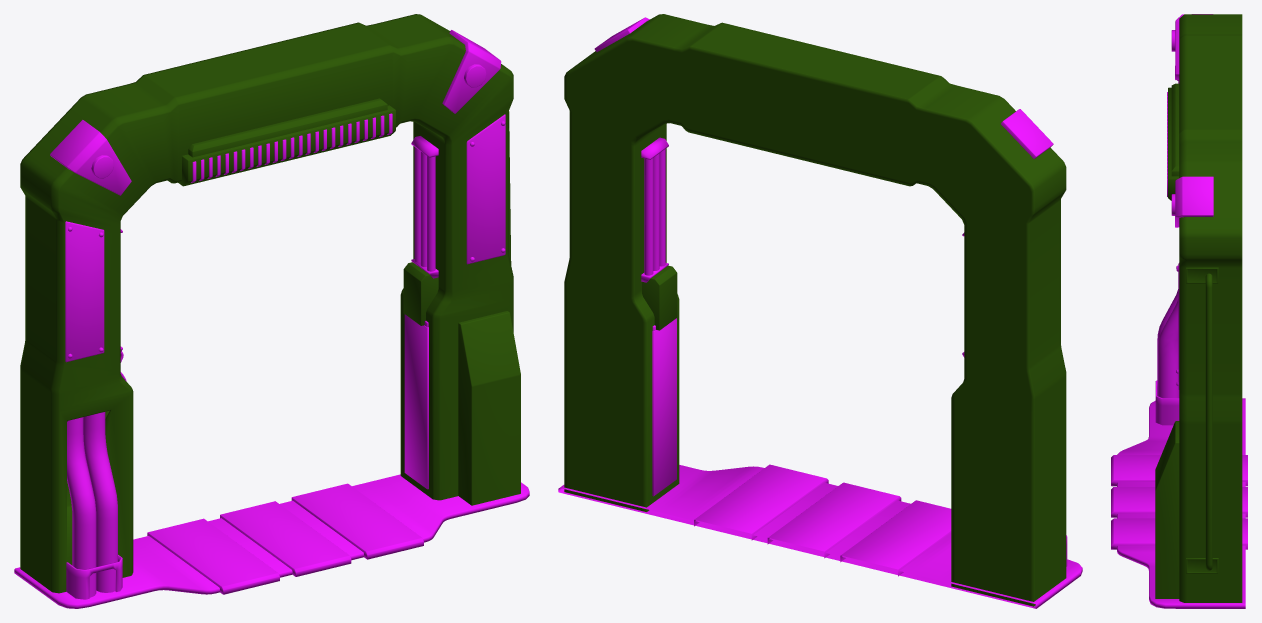
The model's file is Door04_Frame01.FBX.
3 views of the same model, side by side, from view 1: azimuth 30°, elevation 25°; view 2: azimuth 150°, elevation 25°; view 3: azimuth 270°, elevation 25° (orthographic). The views are drawn at different scales.
Visible parts, largest first — view 1: SM_Door04_Frame01; view 2: SM_Door04_Frame01; view 3: SM_Door04_Frame01.
Part boxes in pixels (bbox=[...]): SM_Door04_Frame01: bbox=[14, 14, 529, 608]; SM_Door04_Frame01: bbox=[558, 14, 1082, 608]; SM_Door04_Frame01: bbox=[1111, 14, 1247, 608].
Bounding box in the file's own units: 314 × 294 × 86.38.
